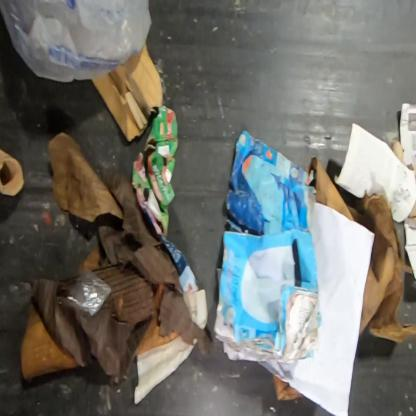cardboard: (305, 155, 415, 347), (225, 127, 318, 236), (91, 40, 163, 143), (136, 188, 200, 294), (131, 105, 179, 238), (0, 148, 25, 197), (272, 374, 306, 402), (403, 217, 415, 282)
soft_plastic: (0, 0, 152, 84), (64, 268, 112, 318)
